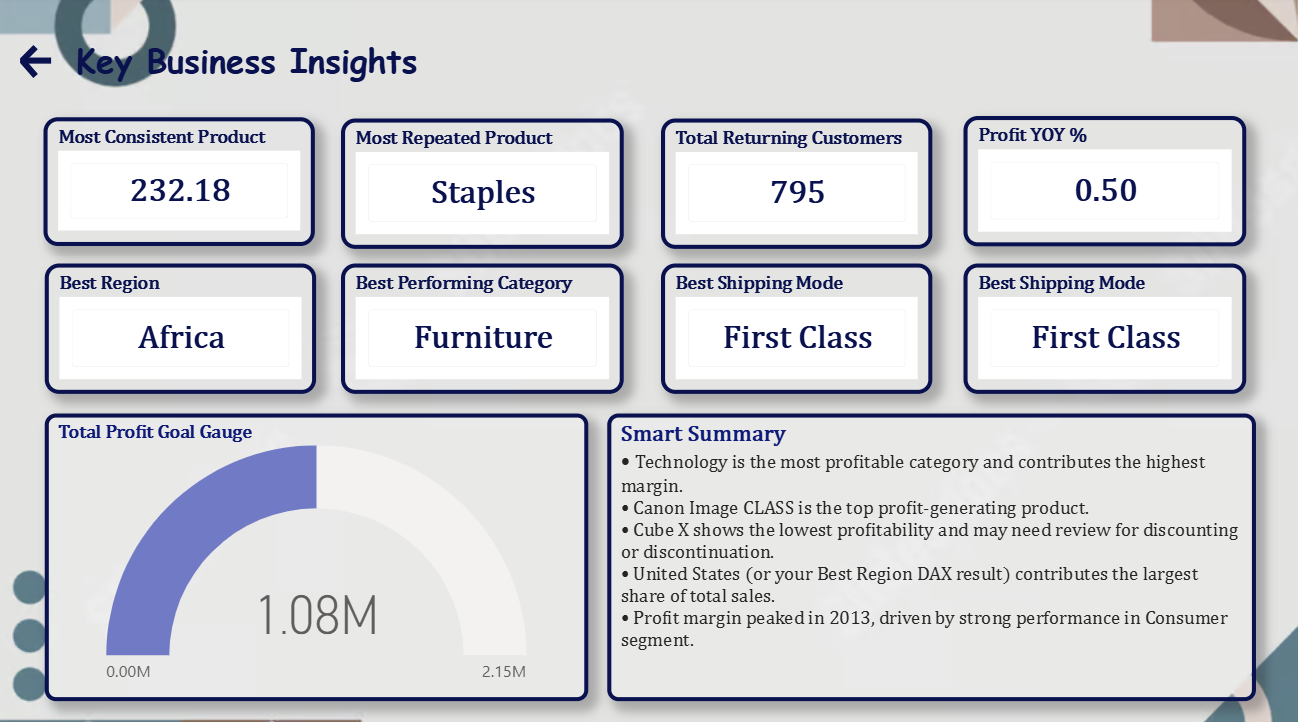

This screenshot's page, from the dashboard's own definition file:
{"tool":"powerbi","page":{"name":"Key Business Insights","canvas":[1280,720],"ordinal":4},"visuals":[{"type":"textbox","box":[73.6,35.6,1181.6,58.9],"z":0},{"type":"actionButton","box":[19.6,44.2,54,40.5],"z":1000},{"type":"cardVisual","title":"Most Repeated Product","fields":{"Data":["Orders.Most_Repeated_Product"]},"box":[338.7,120.2,277.3,127.6],"z":2000},{"type":"cardVisual","title":"Total Returning Customers","fields":{"Data":["Orders.Returning_Customers"]},"box":[652.8,120.2,266.3,127.6],"z":3000},{"type":"cardVisual","title":"Most Consistent Product","fields":{"Data":["Orders.Product_Profit_STD"]},"box":[46.6,119,266.3,126.4],"z":4000},{"type":"cardVisual","title":"Best Performing Category","fields":{"Data":["Orders.Best_Category"]},"box":[338.7,262.6,277.3,127.6],"z":5000},{"type":"cardVisual","title":"Best Region","fields":{"Data":["Orders.Best_Region"]},"box":[47.9,262.6,266.3,127.6],"z":6000},{"type":"cardVisual","title":"Best Shipping Mode","fields":{"Data":["Orders.Best_Shipping_Mode"]},"box":[949.7,262.6,277.3,127.6],"z":7000},{"type":"cardVisual","title":"Best Shipping Mode","fields":{"Data":["Orders.Best_Shipping_Mode"]},"box":[652.8,262.6,266.3,127.6],"z":8000},{"type":"cardVisual","title":"Profit YOY %","fields":{"Data":["Orders.Profit YOY %"]},"box":[949.7,117.8,277.3,127.6],"z":9000},{"type":"textbox","title":"Smart Summary","box":[600,409.8,636.8,282.2],"z":10000},{"type":"gauge","title":"Total Profit Goal Gauge","fields":{"Y":["Orders.Total_Profit"]},"box":[47.9,409.8,533.7,282.2],"z":11000}]}

Visuals, with their boxes in screenshot pixels (x1, y1, x2, y2), scaled from the page's 1280x720 canvas onto the 1298x722 screenshot:
textbox: 75 36 1273 95
actionButton: 20 44 75 85
"Most Repeated Product" cardVisual: 343 121 625 248
"Total Returning Customers" cardVisual: 662 121 932 248
"Most Consistent Product" cardVisual: 47 119 317 246
"Best Performing Category" cardVisual: 343 263 625 391
"Best Region" cardVisual: 49 263 319 391
"Best Shipping Mode" cardVisual: 963 263 1244 391
"Best Shipping Mode" cardVisual: 662 263 932 391
"Profit YOY %" cardVisual: 963 118 1244 246
"Smart Summary" textbox: 608 411 1254 694
"Total Profit Goal Gauge" gauge: 49 411 590 694
